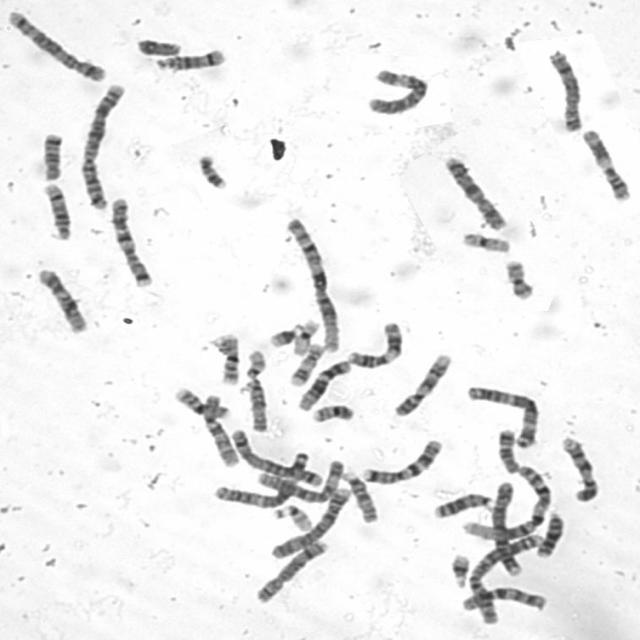A1: (282, 214, 343, 354), (459, 462, 554, 542)
A2: (462, 530, 546, 616), (76, 81, 126, 211)
A3: (210, 448, 314, 508), (463, 383, 542, 449)
B4: (267, 484, 353, 560), (488, 478, 522, 578)
B5: (3, 8, 108, 83), (228, 425, 324, 488)
C10: (199, 392, 241, 468), (459, 588, 549, 611)
C11: (580, 126, 632, 202), (344, 320, 404, 370)
C12: (34, 266, 89, 334), (295, 357, 352, 412)
C6: (251, 461, 346, 505), (363, 66, 431, 116)
C7: (106, 194, 156, 288), (358, 436, 444, 485)
C8: (251, 537, 330, 605), (544, 47, 585, 134)
C9: (390, 350, 453, 418), (558, 433, 600, 503)
D13: (431, 490, 493, 520), (532, 510, 564, 558)
D14: (40, 181, 73, 242), (153, 46, 228, 71)
D15: (339, 469, 380, 524), (240, 376, 270, 433)
E16: (172, 384, 230, 420), (212, 330, 243, 387)
E17: (286, 341, 326, 388), (195, 152, 228, 190)
E18: (38, 130, 65, 181), (495, 426, 521, 474)
F19: (289, 316, 321, 356), (458, 230, 511, 254)
F20: (502, 257, 536, 301), (309, 402, 356, 424)
G21: (267, 321, 303, 348), (447, 551, 472, 588)
G22: (270, 502, 314, 532), (241, 346, 268, 380)
X: (441, 154, 508, 231)
Y: (134, 36, 183, 57)
